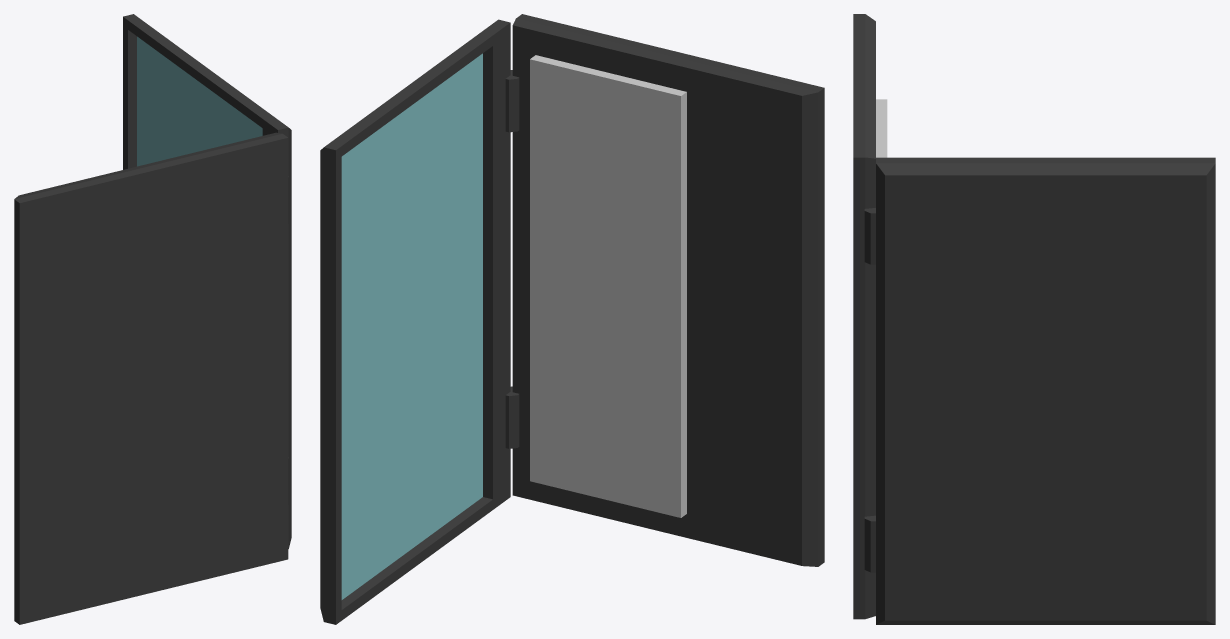
The model's file is laptop.fbx.
3 views of the same model, side by side, from view 1: azimuth 30°, elevation 25°; view 2: azimuth 150°, elevation 25°; view 3: azimuth 270°, elevation 25° (orthographic). The views are drawn at different scales.
Visible parts, largest first — view 1: Cube; view 2: Cube; view 3: Cube.
Part boxes in pixels (x1,y1,x2,y2): Cube: [14, 14, 291, 624]; Cube: [320, 14, 824, 624]; Cube: [853, 14, 1215, 624].
Bounding box in the file's own units: 0.32 × 0.45 × 0.32.
